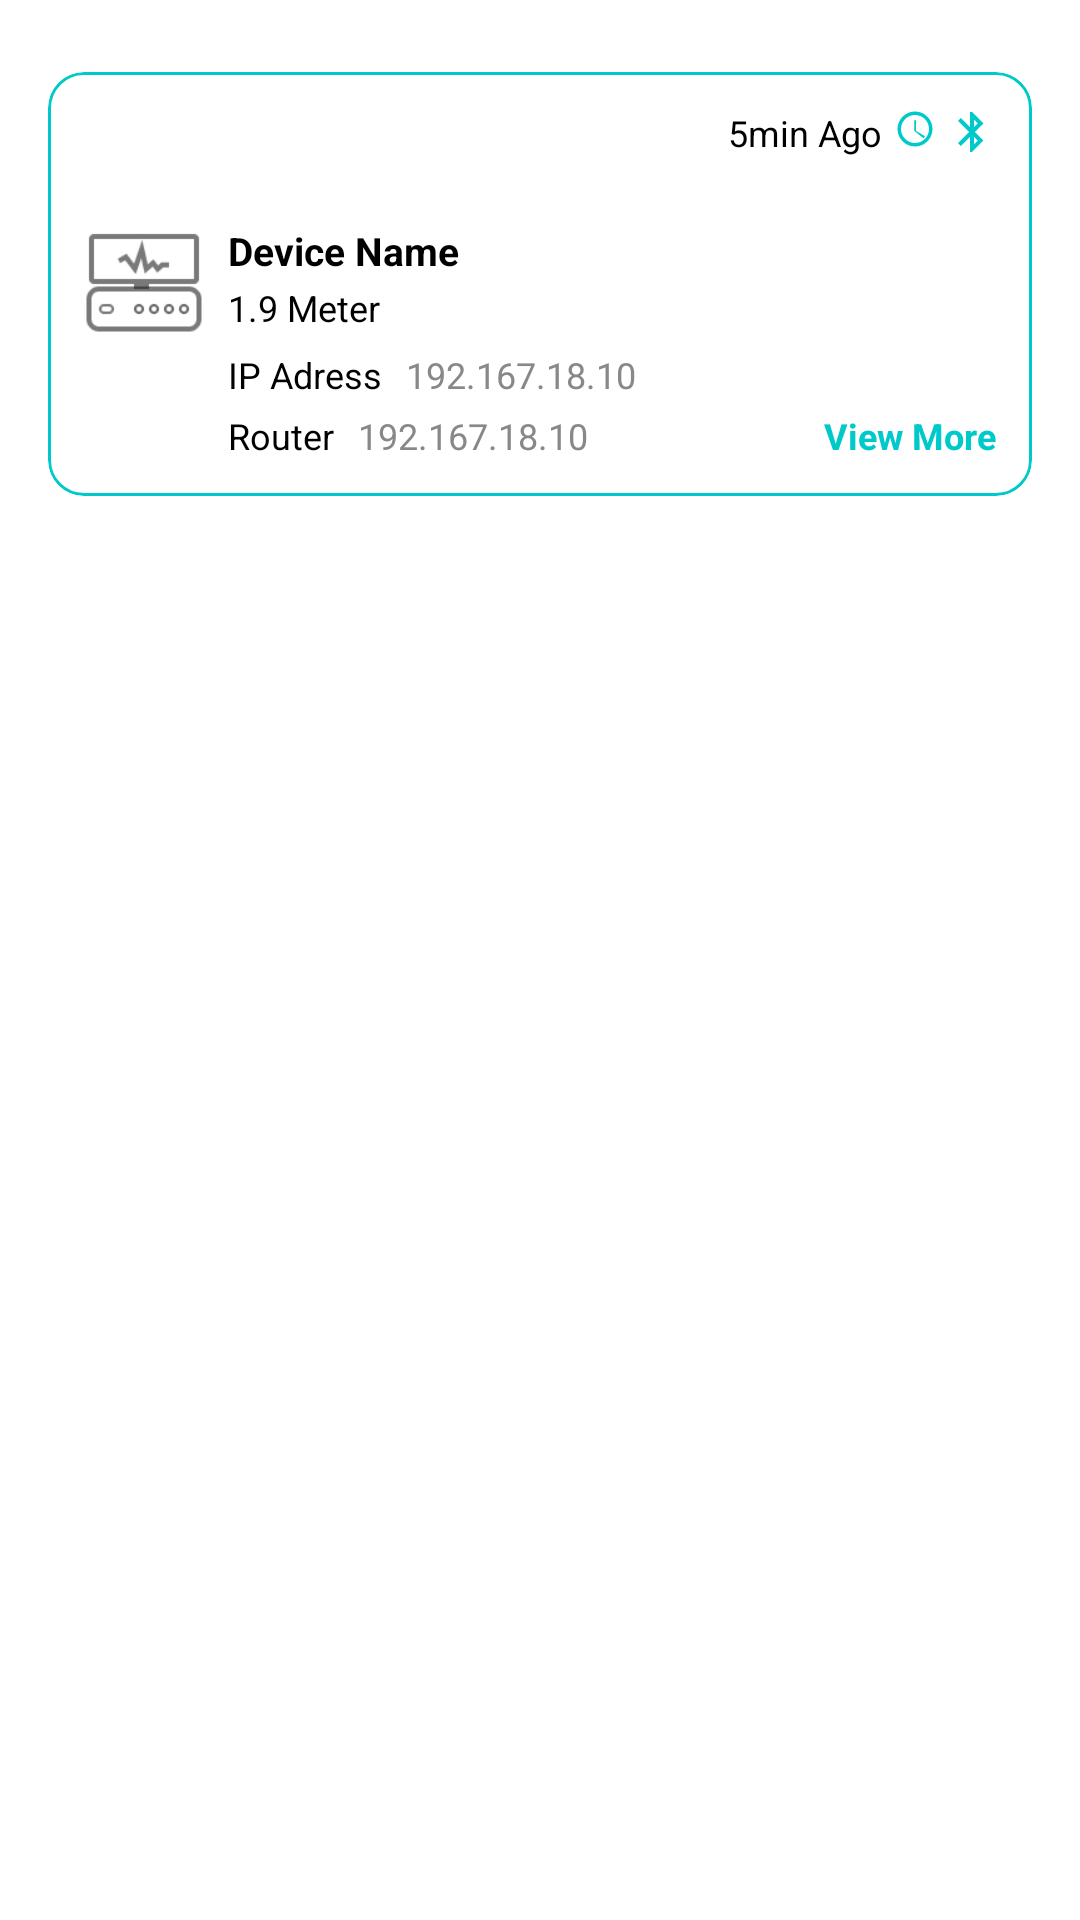

Icons on this 1080w x 1920h Android screen, each with its box as (x1=x1, y1=y1, x2=x2, y2=y2):
clock: (x1=897, y1=111, x2=933, y2=147)
device info: (x1=86, y1=234, x2=202, y2=332)
